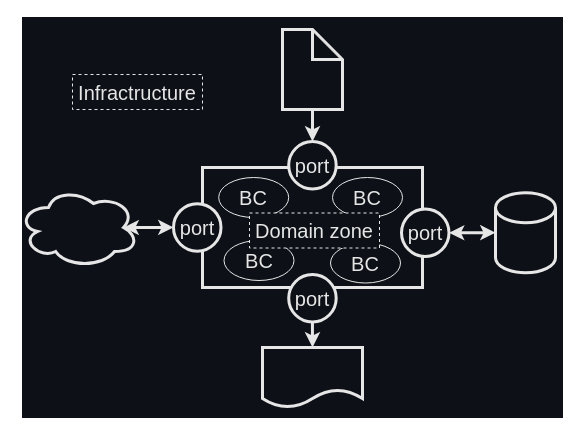
This 580x435 diagram has some shape labels left out. The shapes that lost their labels are listed below. From the top down, each one's box as (x1, y1, x2, y2) in pixels, then its label:
(280, 28, 344, 110): cfg
(16, 186, 140, 268): HTTP
(494, 191, 556, 274): DB
(260, 346, 364, 408): logs
